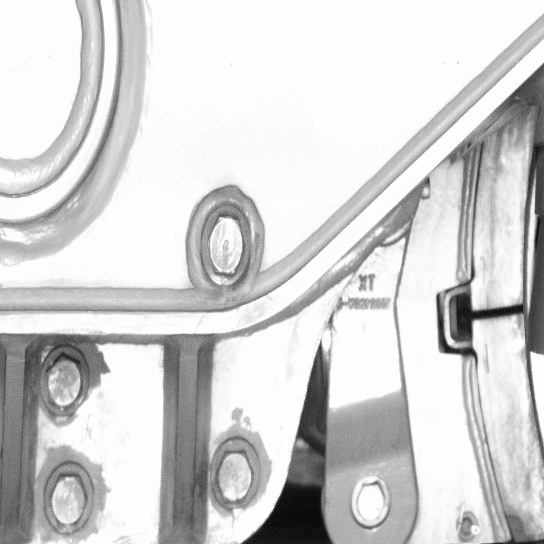ClosedKnifeSwitch: (455, 138, 543, 541)
